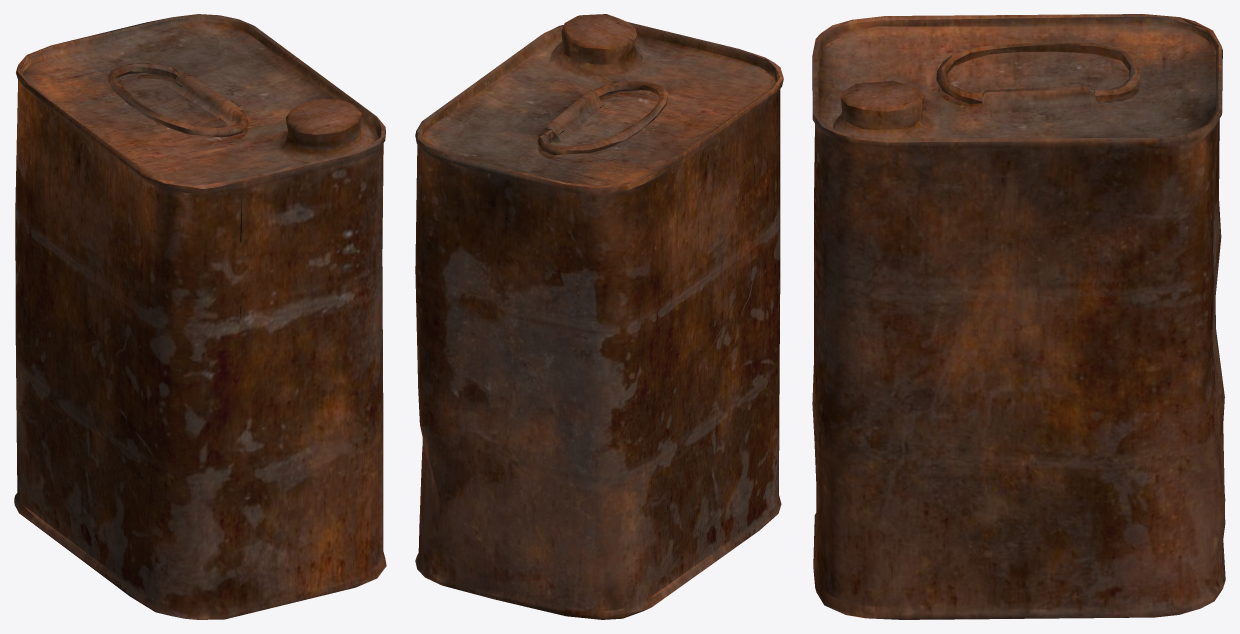
The model's file is oil_tin.glb.
3 renders of one model, left to right at view 1: azimuth 30°, elevation 25°; view 2: azimuth 150°, elevation 25°; view 3: azimuth 270°, elevation 25°, orthographic. The views are drawn at different scales.
Visible parts, largest first — view 1: oil_tin; view 2: oil_tin; view 3: oil_tin.
Boxes of the visible parts, x1,y1,x2,y2 form: oil_tin: [14, 14, 386, 619]; oil_tin: [415, 14, 783, 619]; oil_tin: [812, 14, 1225, 619].
Size of what is drawn, in the model's own units: 0.1144 by 0.2053 by 0.1536.
Materials: 1 (1 with a texture image).
